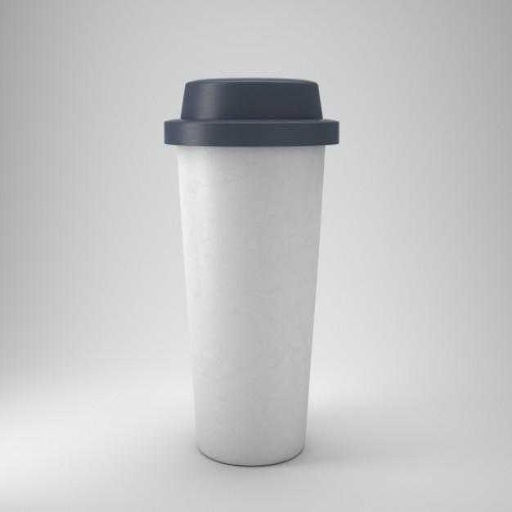cup: (163, 77, 340, 468)
